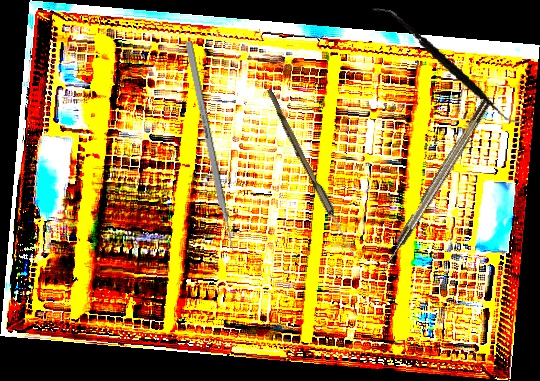Hook Surgical: (377, 97, 494, 274)
Pusher: (184, 40, 240, 268)
Spatula Surgical: (357, 7, 538, 126)
Surgical Spoon: (262, 88, 360, 259)
